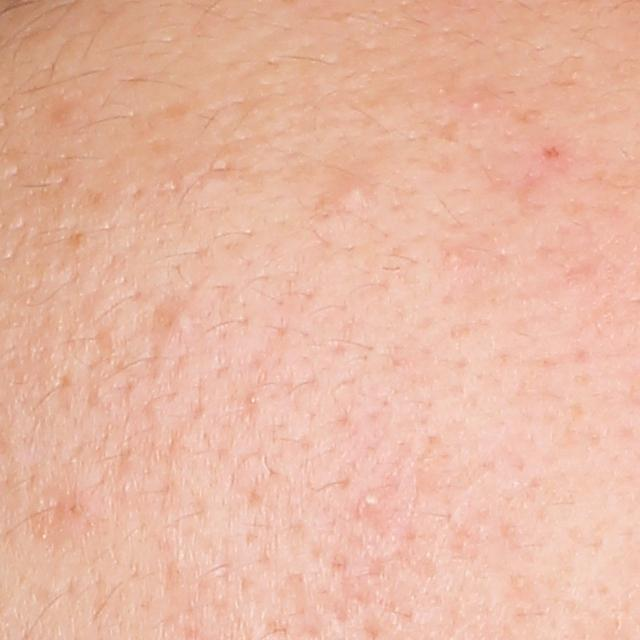comedo: (165, 301, 196, 329), (337, 177, 367, 202), (462, 92, 487, 113)
